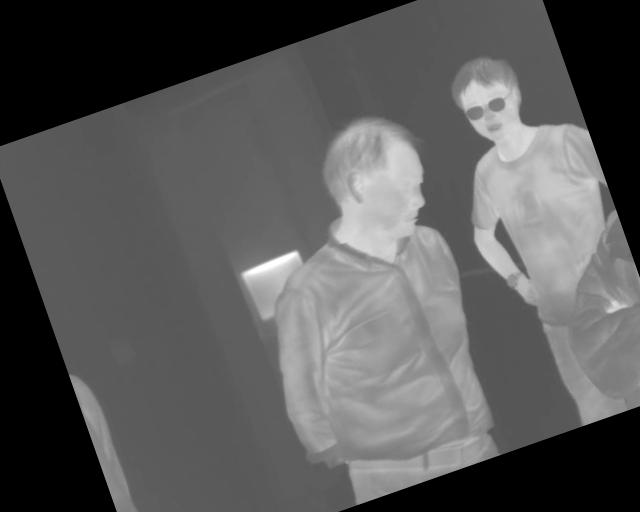face: (307, 100, 449, 257), (441, 46, 536, 151)
